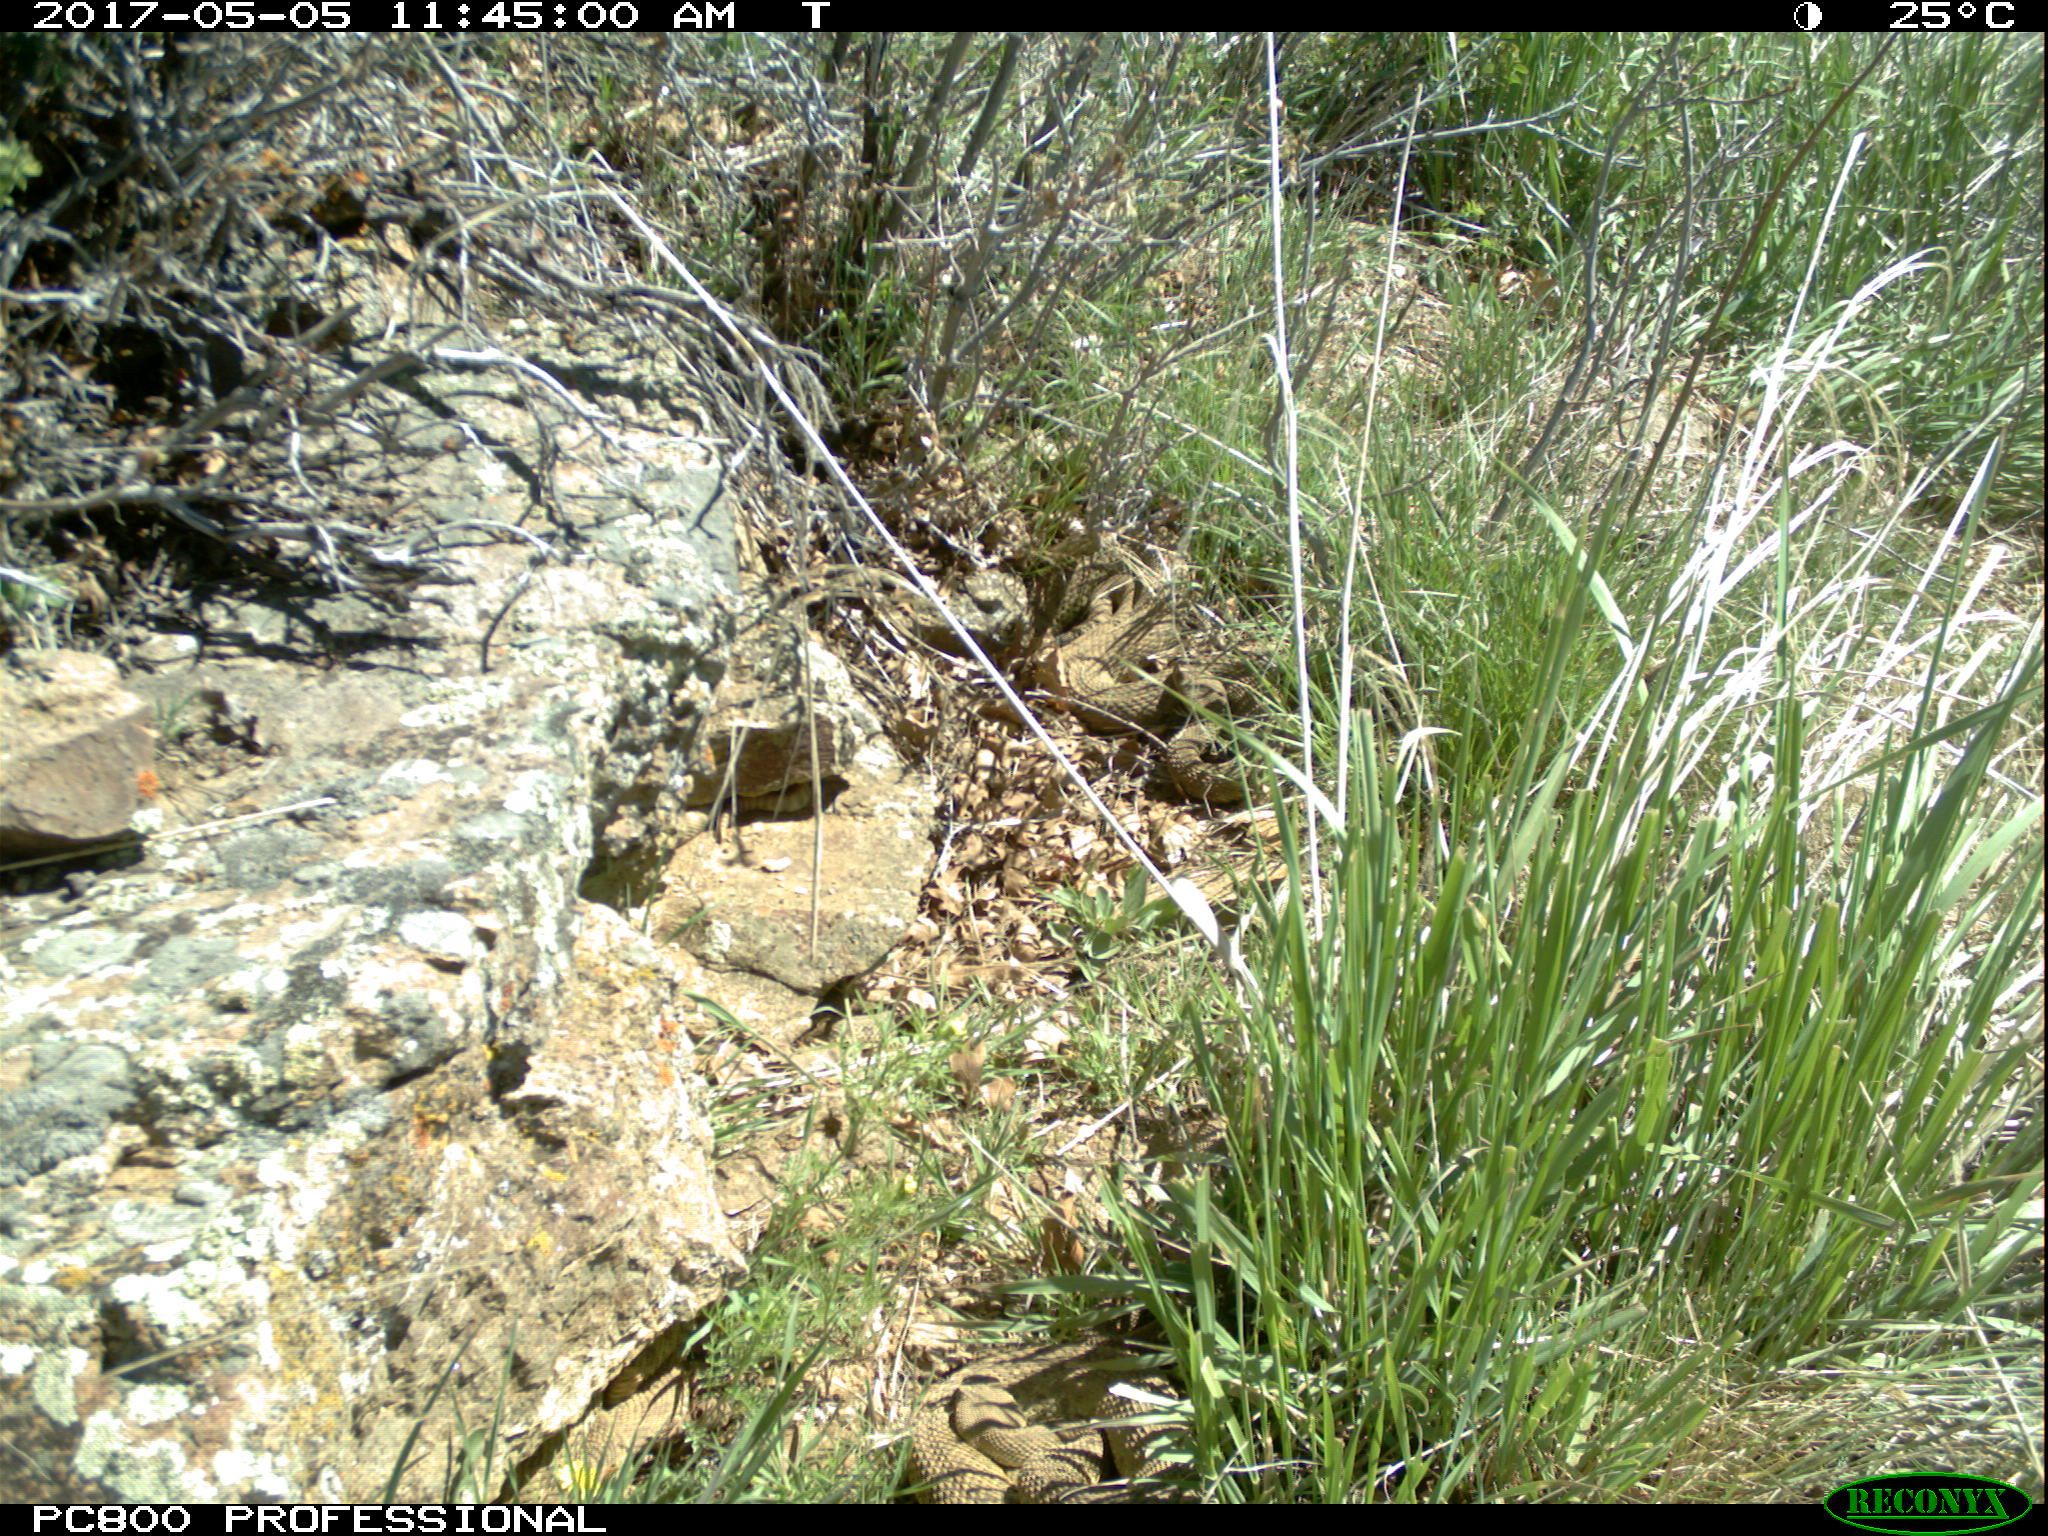snake: (1042, 536, 1269, 803), (898, 1347, 1187, 1504), (560, 1368, 706, 1467)
